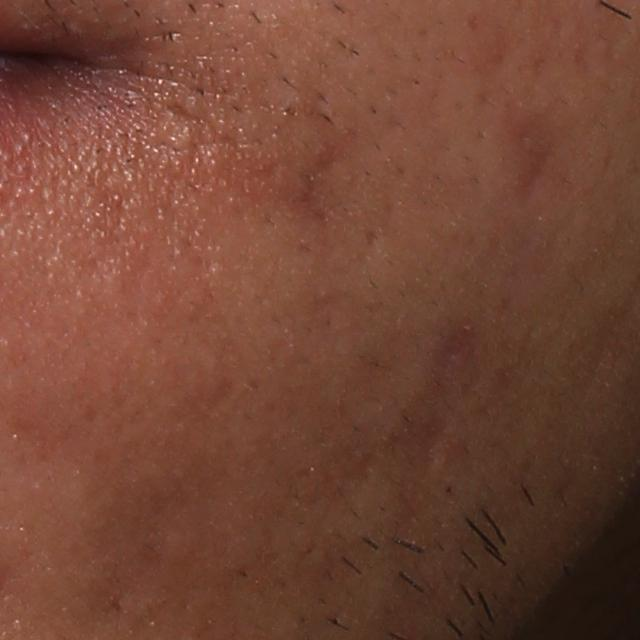atrophic_scar: (414, 338, 465, 537), (497, 97, 576, 214), (291, 143, 361, 228)
